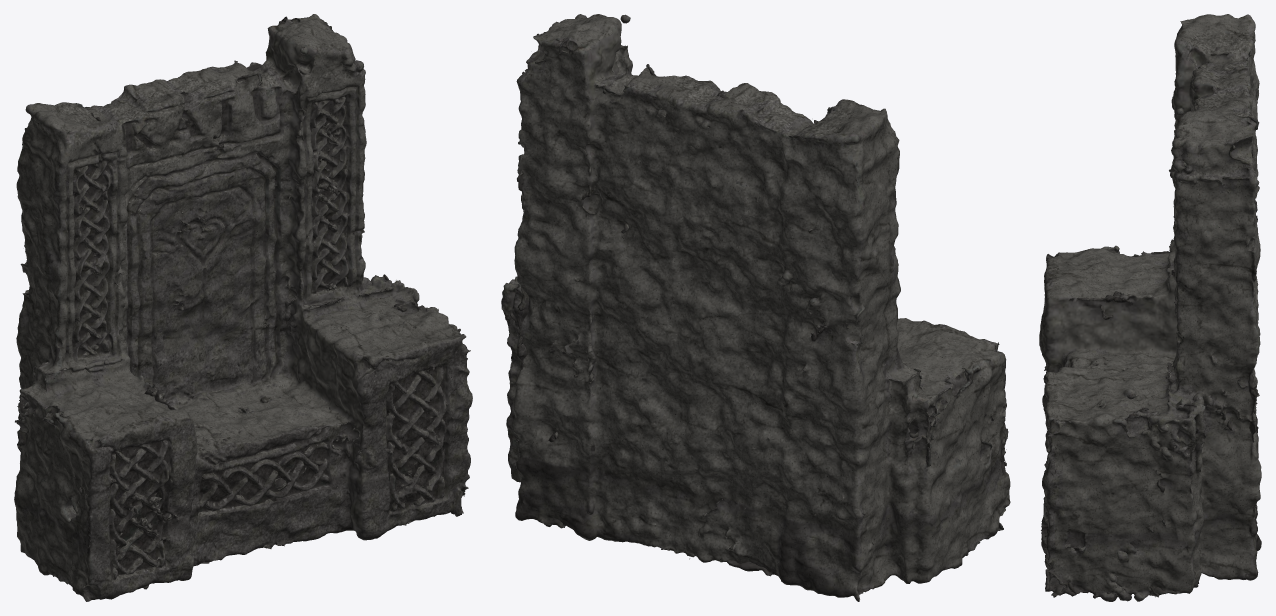
File: throne.glb
The picture shows the model from 3 angles, left to right: view 1: azimuth 30°, elevation 25°; view 2: azimuth 150°, elevation 25°; view 3: azimuth 270°, elevation 25°; orthographic projection. The views are drawn at different scales.
Parts seen in each view (by area): view 1: Throne_LO; view 2: Throne_LO; view 3: Throne_LO.
Boxes of the visible parts, x1,y1,x2,y2 form: Throne_LO: [14, 14, 472, 601]; Throne_LO: [501, 14, 1010, 601]; Throne_LO: [1039, 14, 1261, 601].
Bounding box in the file's own units: 6.47 × 7.1 × 3.2.
1 material, 1 textured.
